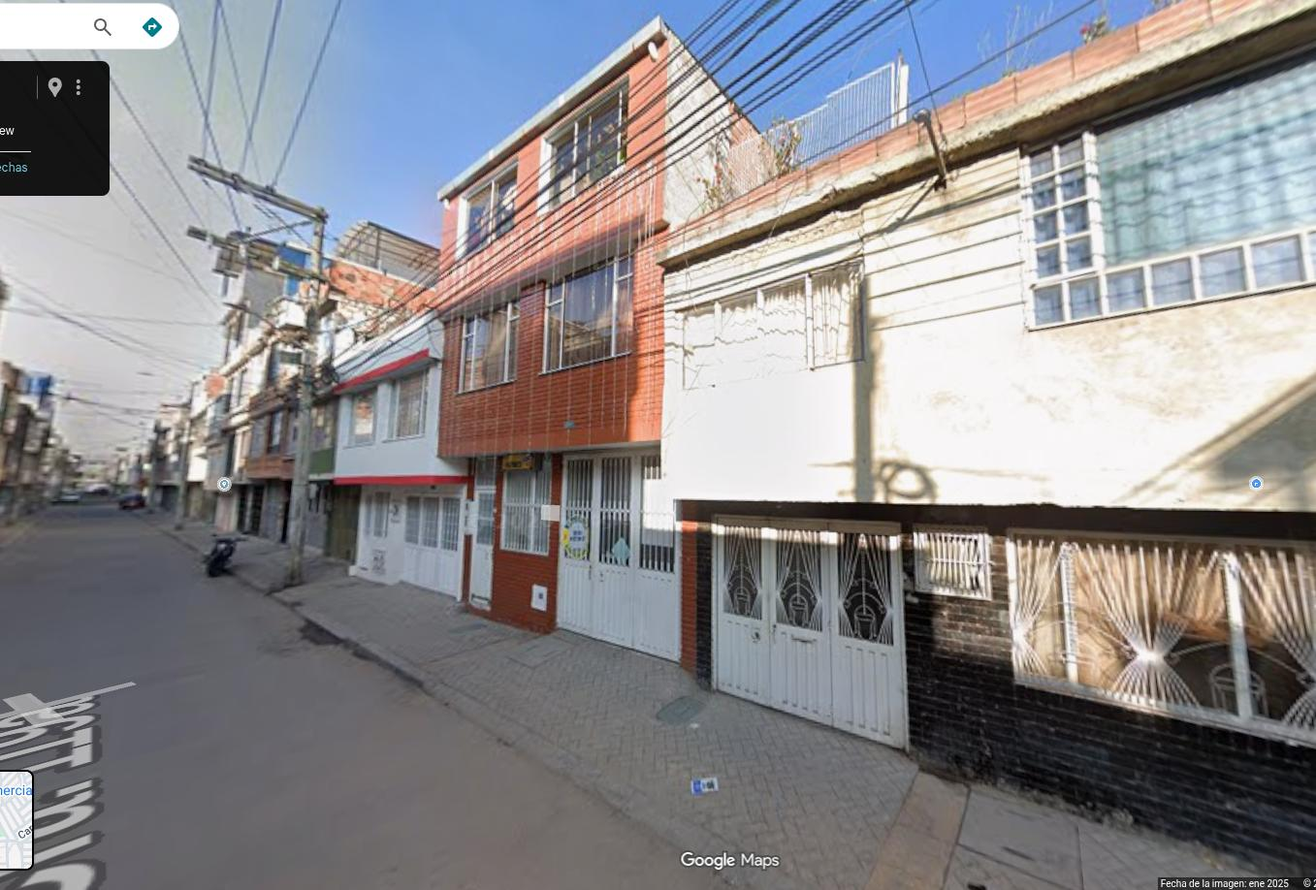casa: (659, 0, 1315, 862), (437, 16, 748, 659), (328, 311, 469, 596)
poste: (189, 158, 328, 586)
